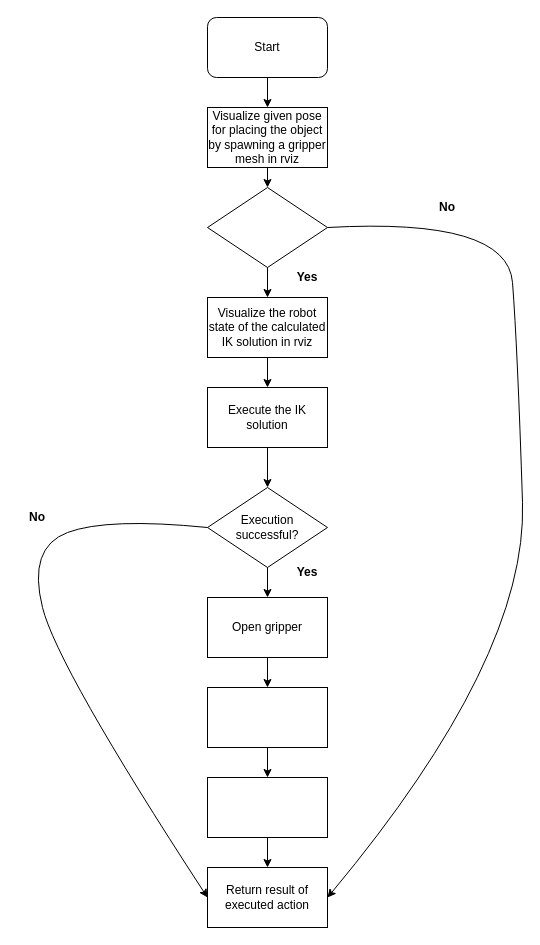
Some shapes in this 540 by 945 pixel diagram are drawn without their labels. The shapes that lost their labels are listed below. From the top down, each one's box as (x1, y1, x2, y2) in pixels, then its label:
(206, 186, 328, 268): Exists IK solution for given pose?
(206, 686, 328, 748): Publish message for beliefstate
(206, 776, 328, 838): Move to predefined pose for carrying object
